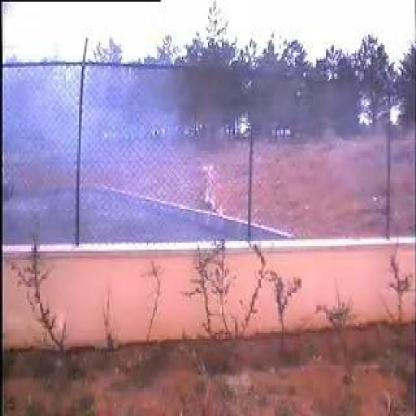-: (31, 76, 190, 239)
